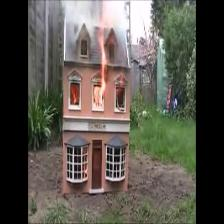fire: (97, 45, 106, 106)
